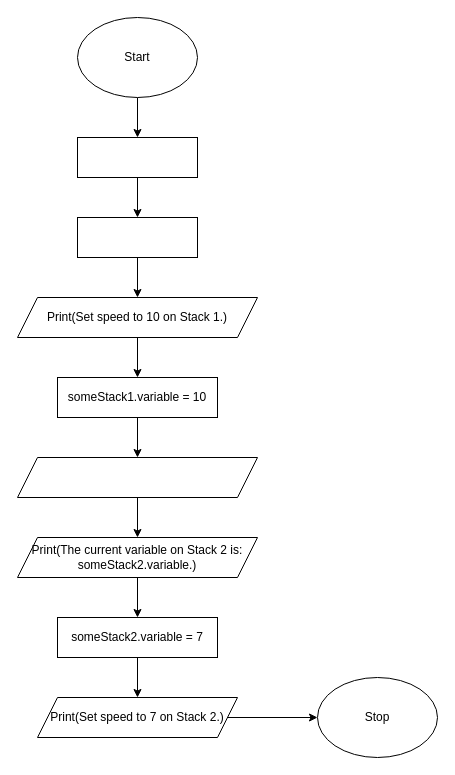
Some shapes in this 455 by 775 pixel diagram are drawn without their labels. The shapes that lost their labels are listed below. From the top down, each one's centre as x and y in pixels, then its label:
At point (137, 157): "const someStack1 = new MyStack()".
At point (137, 237): "const someStack2 = new MyStack()".
At point (137, 477): "Print(The current variable on Stack 1 is: someStack1.variable.)".
